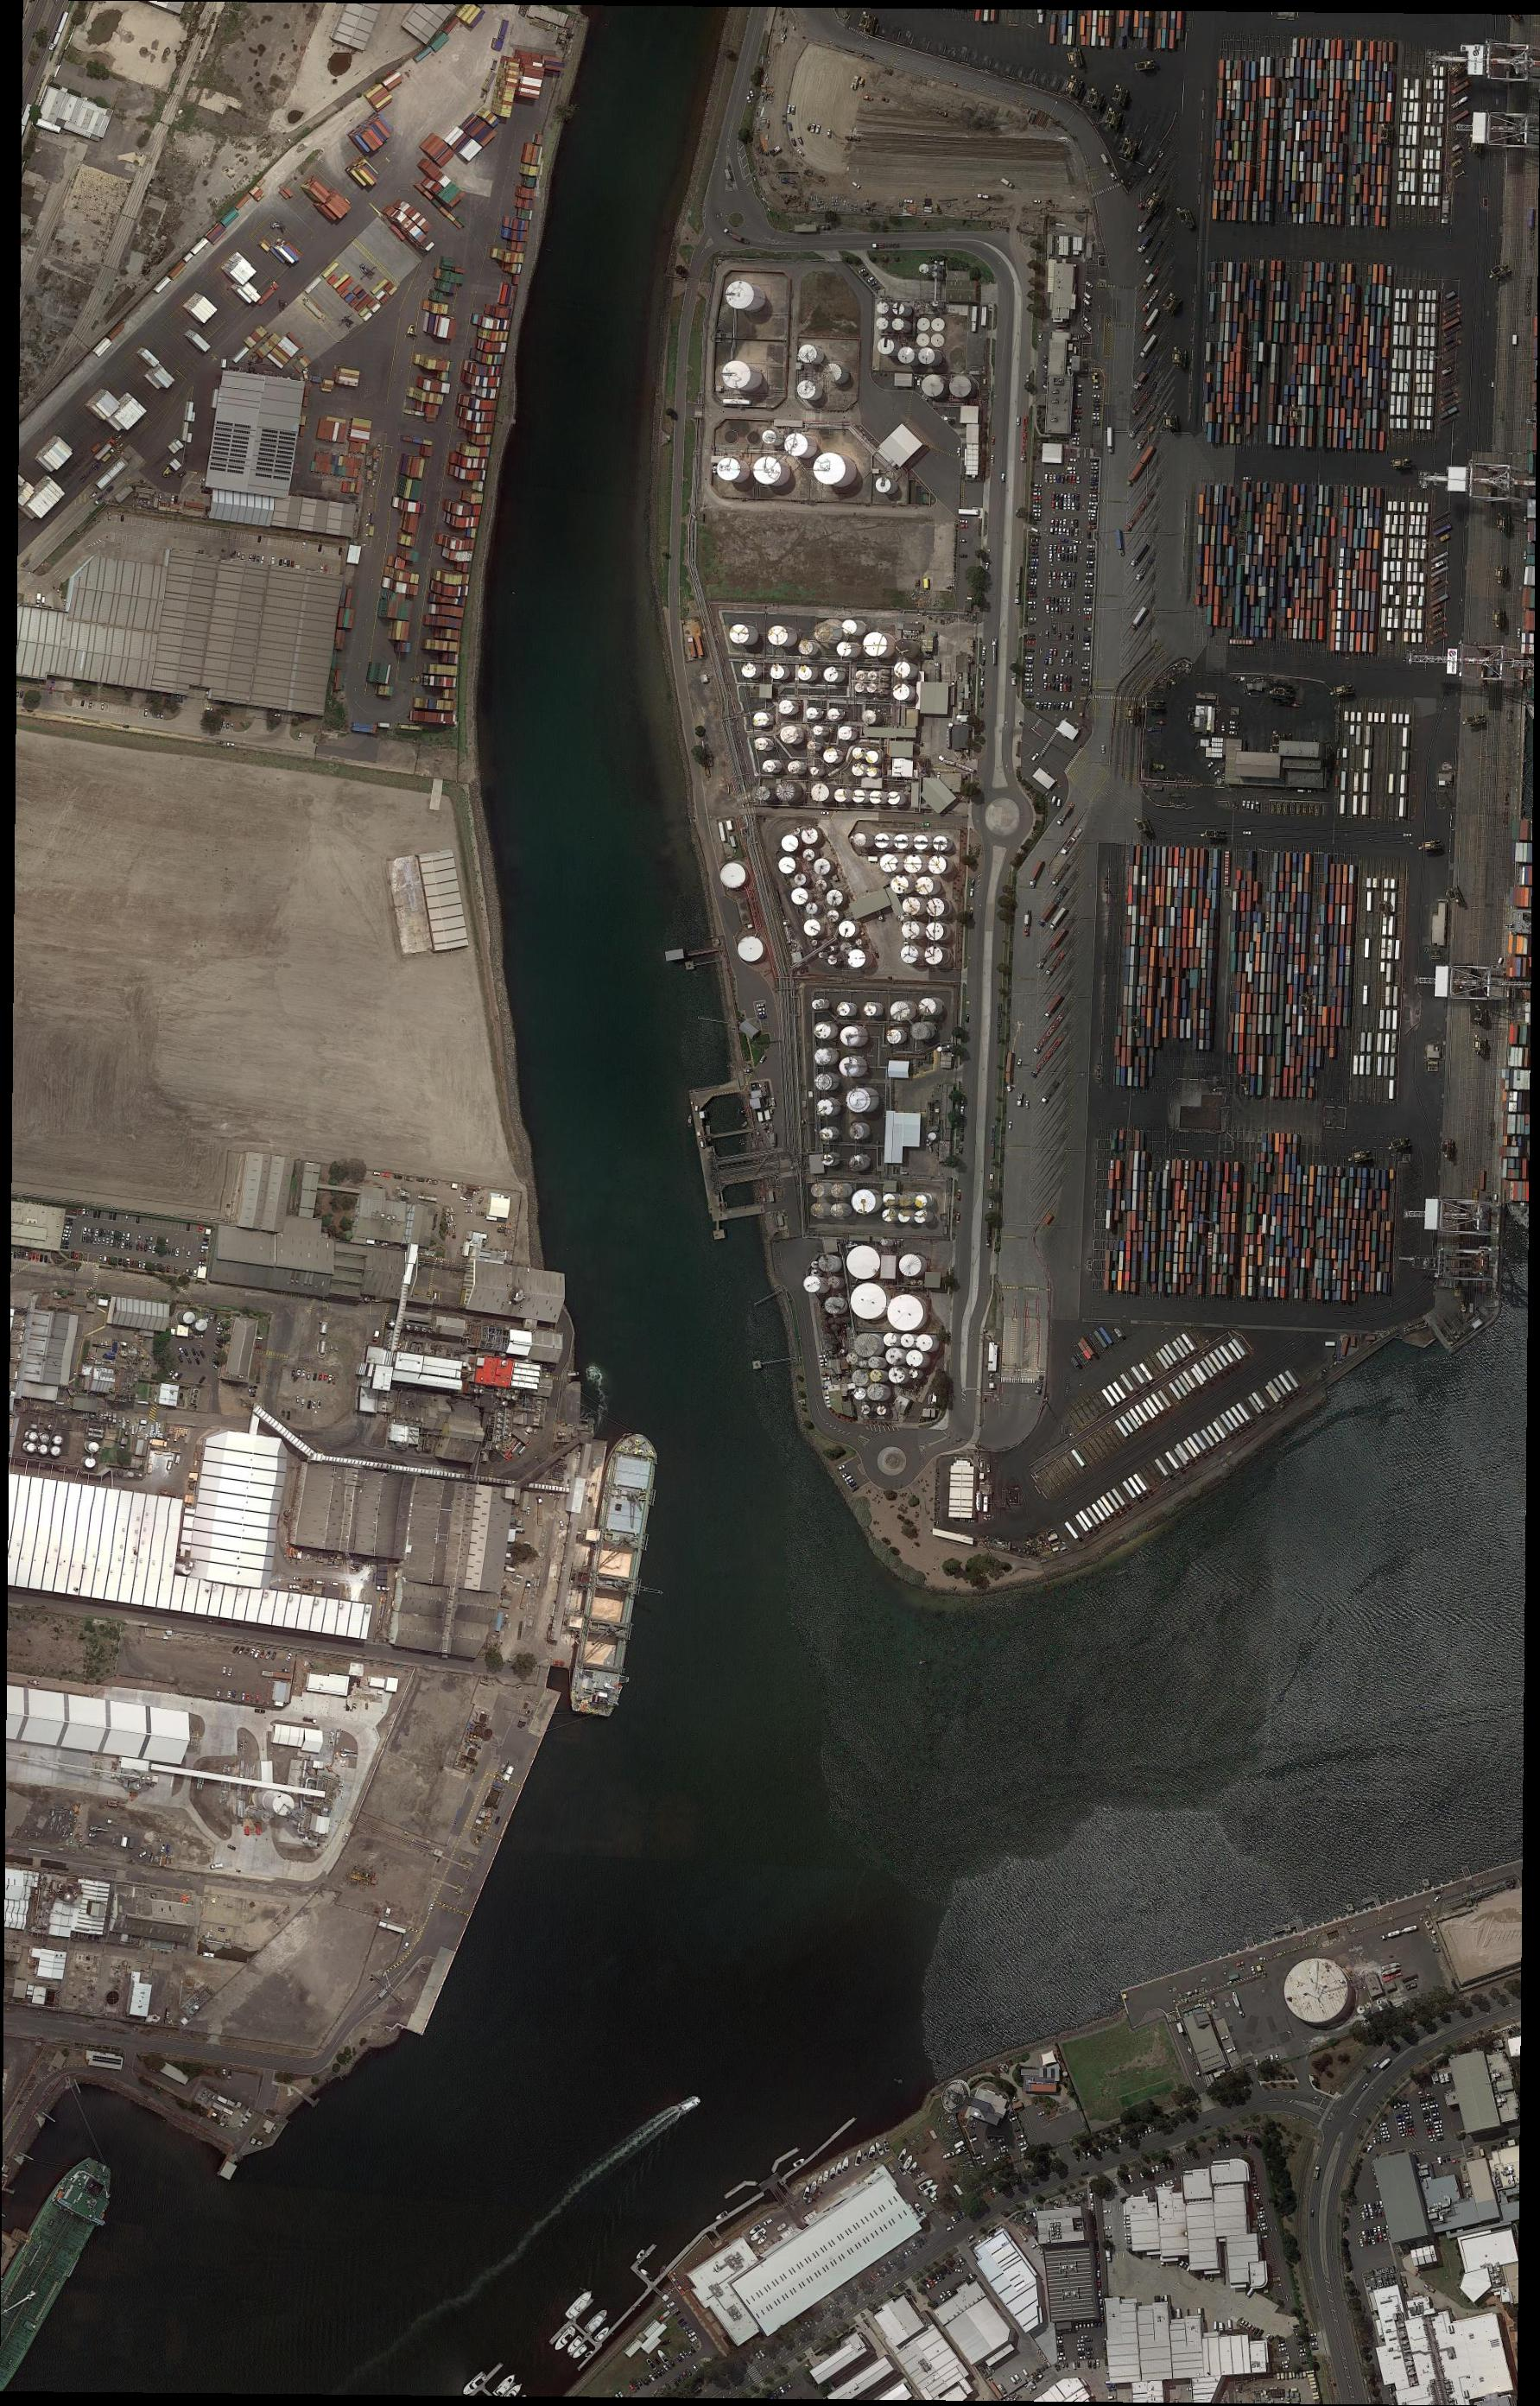harbor: (800, 2115, 856, 2169), (633, 2243, 658, 2269), (549, 2322, 572, 2346), (482, 2362, 503, 2387), (724, 2180, 747, 2201), (577, 2348, 598, 2371), (572, 2299, 595, 2320), (777, 2146, 800, 2164), (570, 2338, 588, 2359)
ship: (0, 2152, 125, 2392), (568, 1431, 659, 1717), (565, 2289, 595, 2320), (584, 2308, 610, 2334), (460, 2371, 488, 2395), (554, 2325, 577, 2353), (679, 2096, 702, 2115), (919, 2180, 940, 2197), (595, 2325, 612, 2343), (567, 2336, 584, 2353), (574, 2345, 591, 2360), (916, 2176, 935, 2190), (749, 2227, 766, 2241), (747, 2222, 763, 2236), (905, 2159, 919, 2175), (873, 2139, 886, 2157), (898, 2146, 910, 2162), (902, 2153, 914, 2169), (881, 2136, 891, 2153), (866, 2145, 877, 2162), (854, 2148, 863, 2168), (807, 2180, 817, 2196), (844, 2155, 852, 2173), (756, 2234, 768, 2246), (802, 2185, 810, 2201), (835, 2162, 844, 2176), (830, 2166, 837, 2182), (816, 2173, 823, 2187), (823, 2171, 830, 2182)
